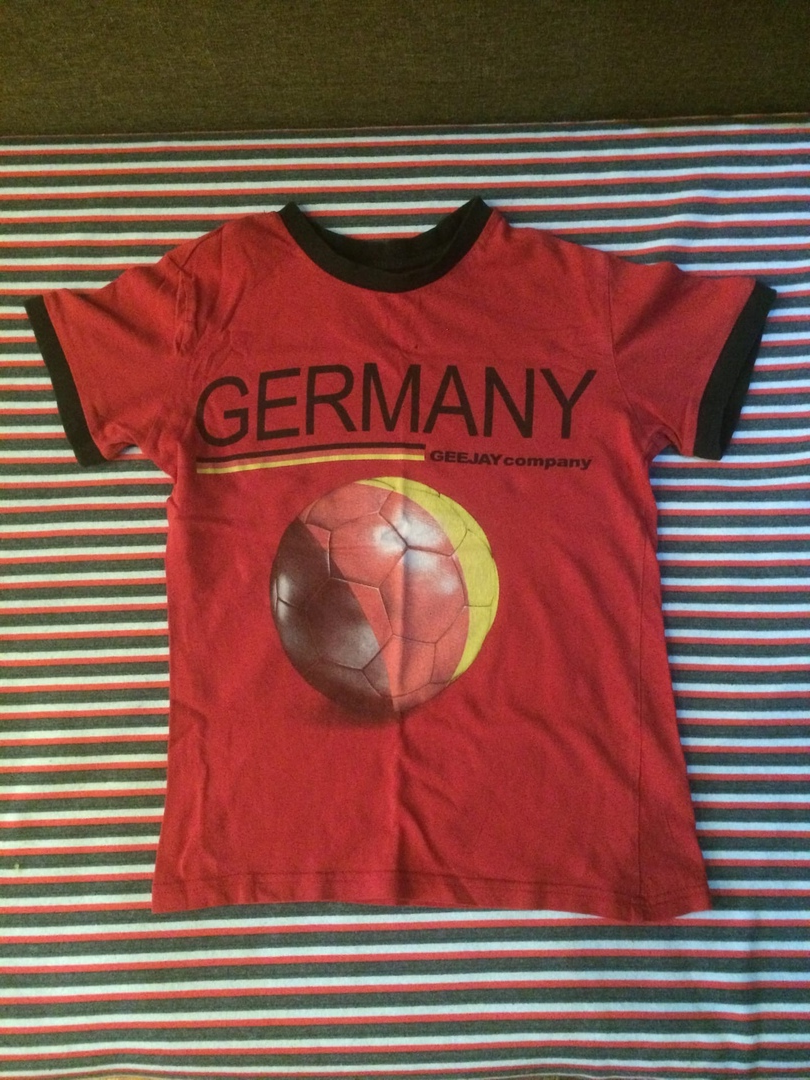clothes: (34, 201, 767, 932)
